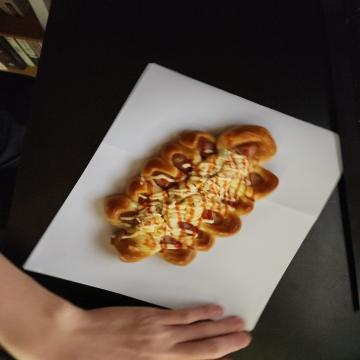pizza_bread: (122, 80, 264, 259)
